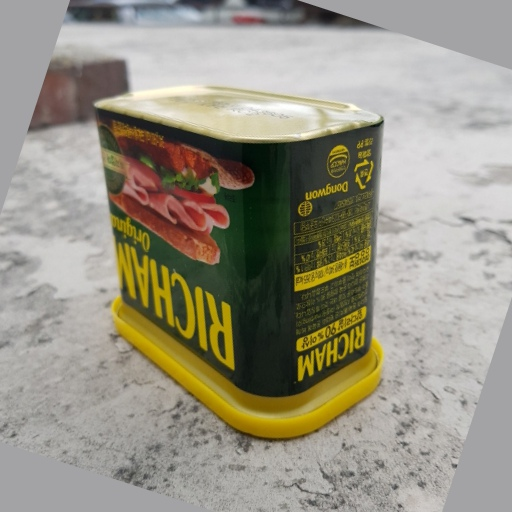Metal_2: (90, 85, 391, 439)
